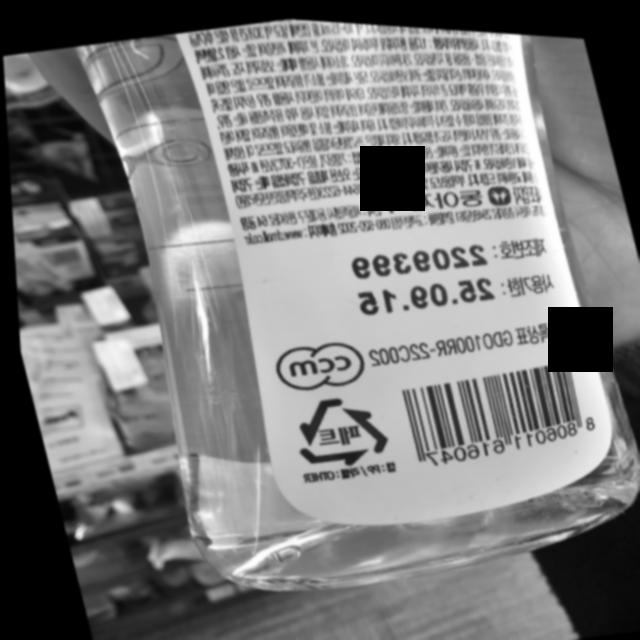PET: (274, 377, 394, 476)
